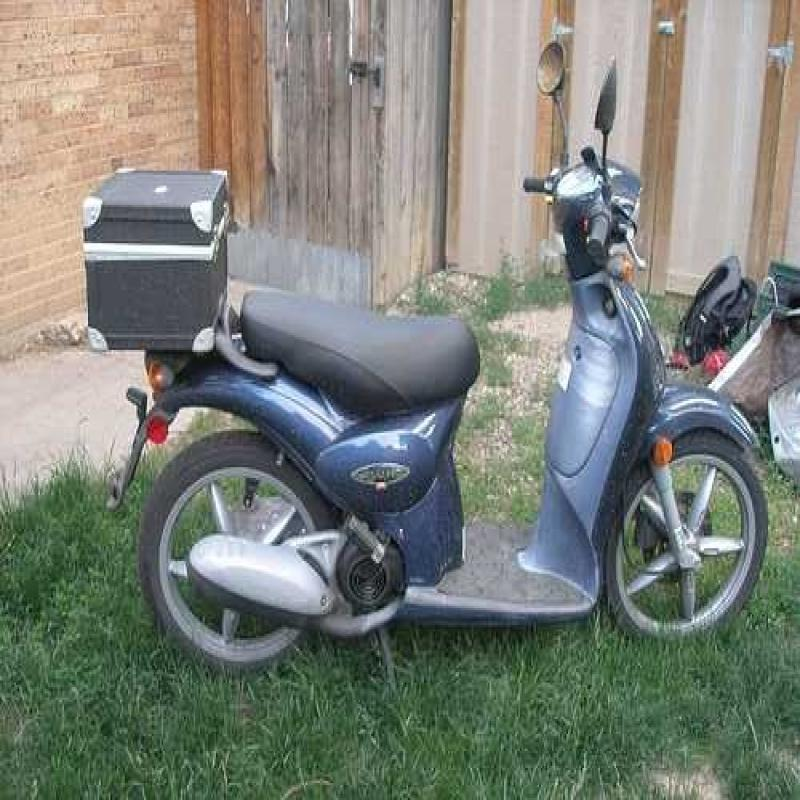bike: (106, 100, 768, 697)
